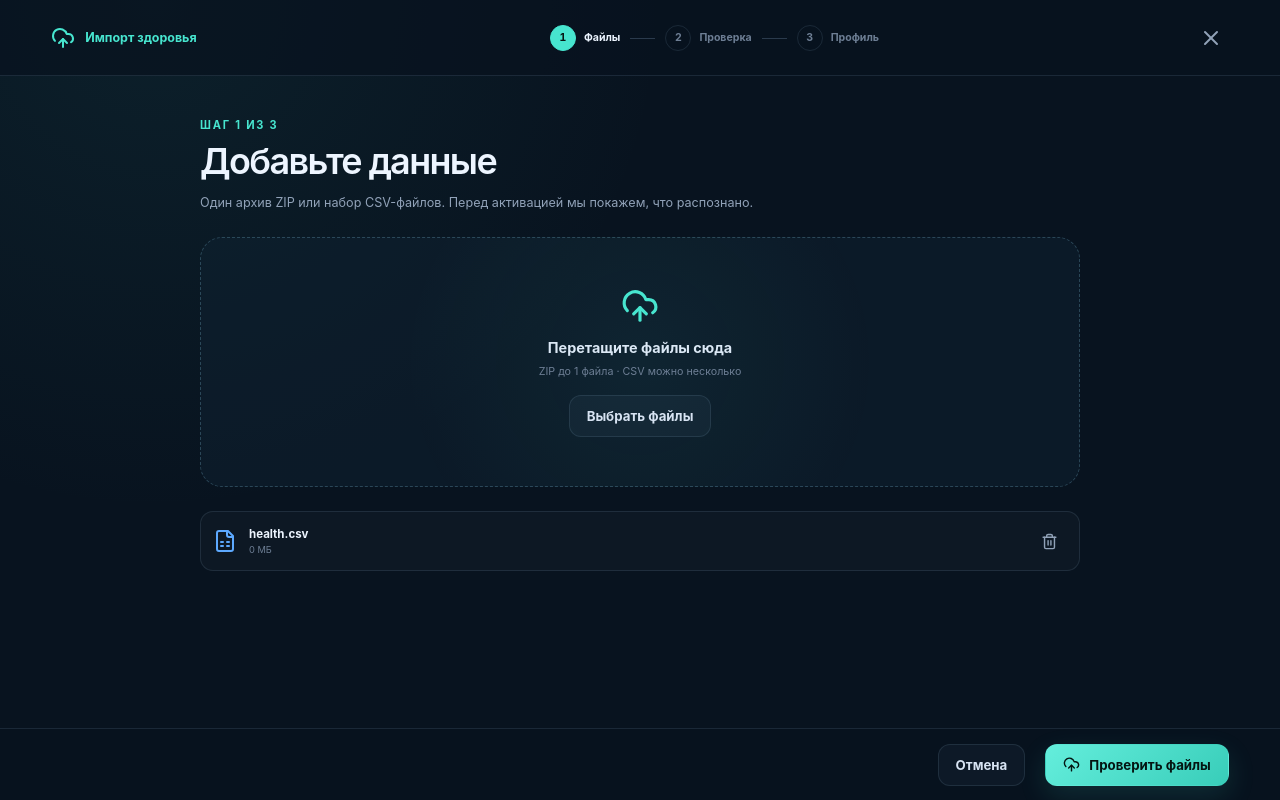
Welcome and import › не закрывает мастер при частичных ошибках и блокирует импорт без парсера
The image size is (1280, 800).
Earlier steps of the test are not shown.
Click the button "Проверить файлы" at coordinates (1137, 764), box [1045,744,1229,786]
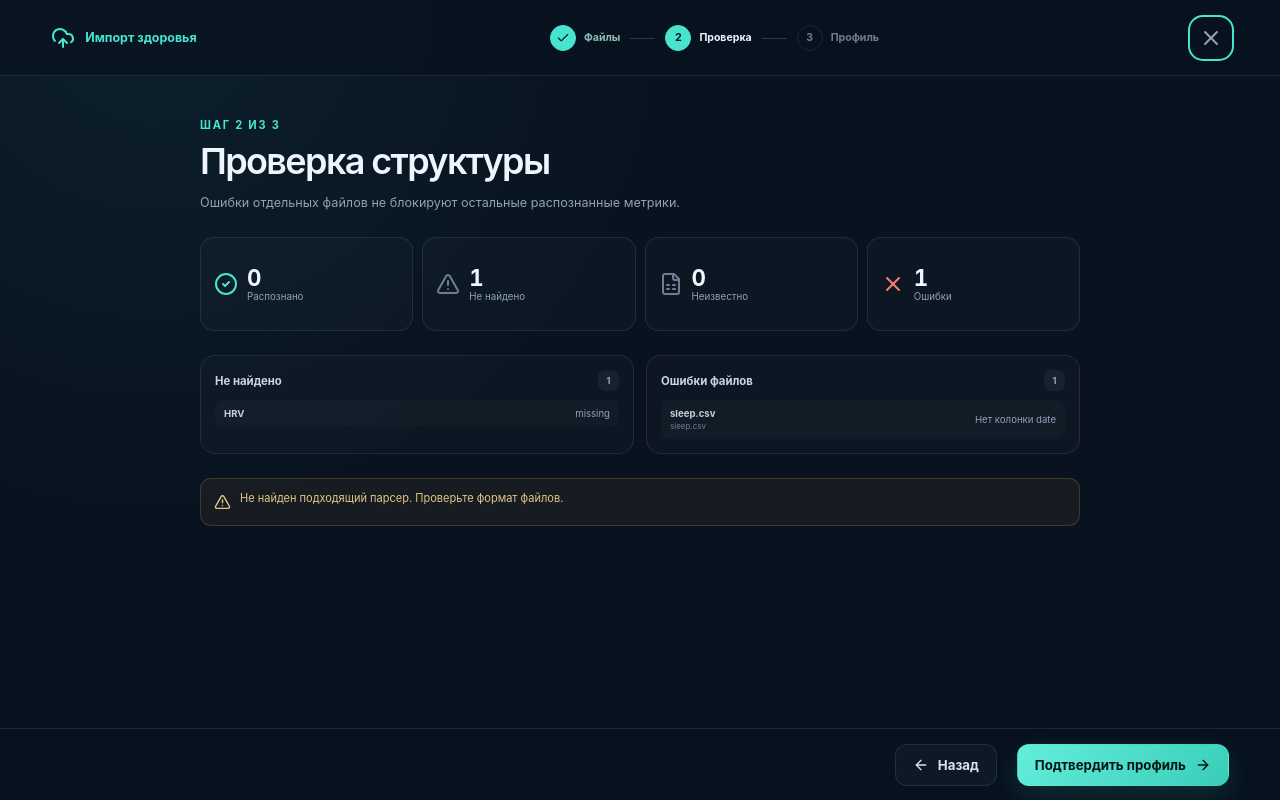
Now the heading "Проверка структуры" is shown, box [200,139,550,183]
Now the text "Нет колонки date" is shown, box [975,414,1056,425]
Now the text "Не найден подходящий парсер. Проверьте формат файлов." is shown, box [200,478,1080,526]
Click the button "Подтвердить профиль" at coordinates (1123, 764), box [1017,744,1229,786]
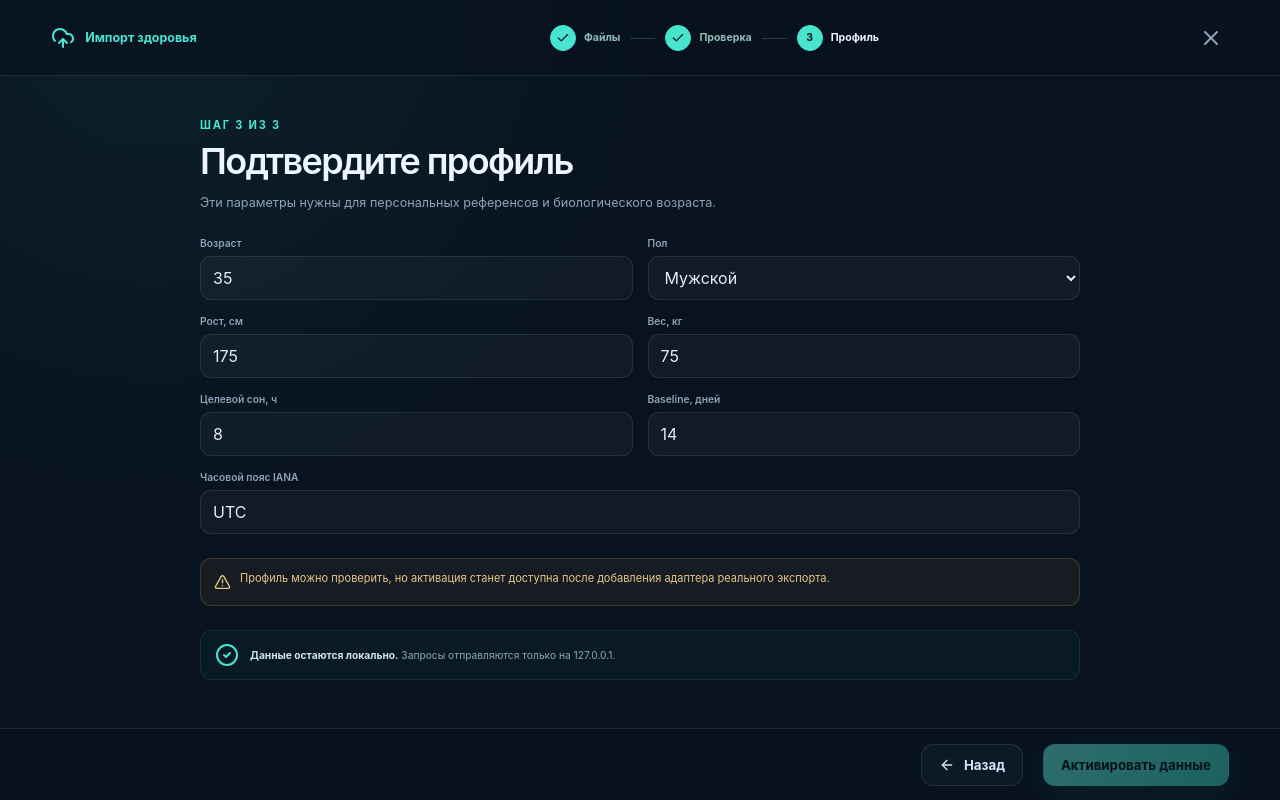
Now the button "Активировать данные" is disabled, box [1043,744,1229,786]
Now the text "активация станет доступна" is shown, box [240,571,830,585]
